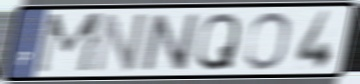4: (293, 8, 335, 74)
M: (33, 11, 107, 77)
N: (89, 11, 150, 75), (140, 11, 201, 73)
O: (242, 10, 293, 72)
Q: (194, 10, 243, 73)
